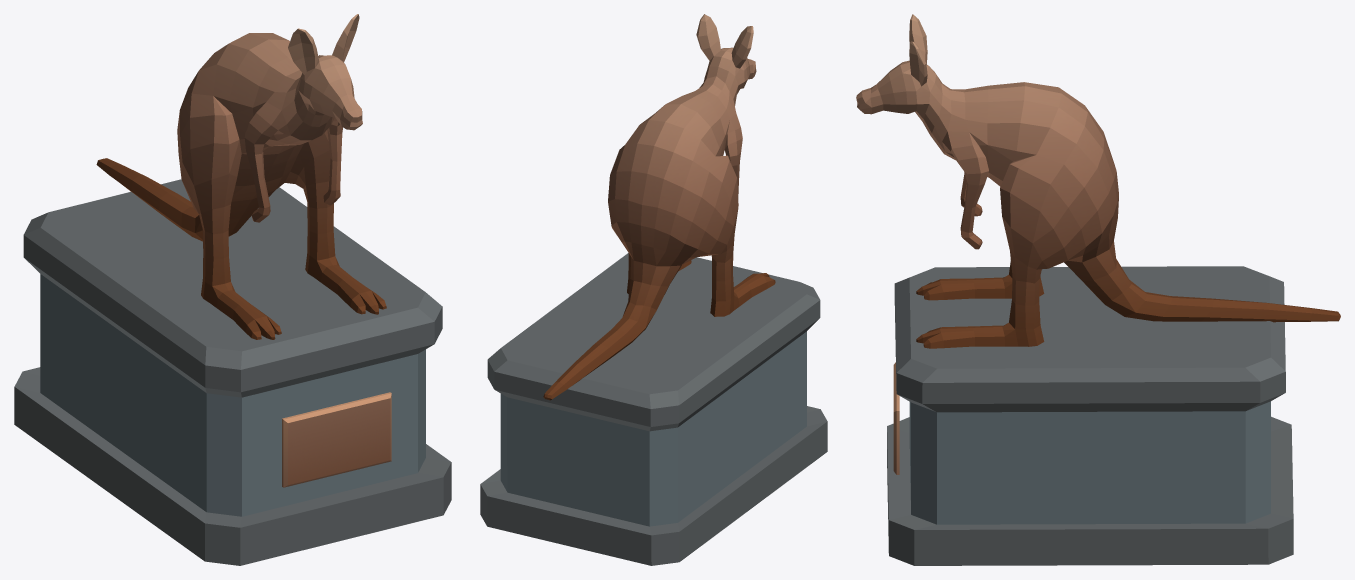
The model's file is Environment_AnimalStatue_Kangaroo.fbx.
3 views of the same model, side by side, from view 1: azimuth 30°, elevation 25°; view 2: azimuth 150°, elevation 25°; view 3: azimuth 270°, elevation 25° (orthographic). The views are drawn at different scales.
Parts seen in each view (by area): view 1: Environment_AnimalStatueStand_Kangaroo, Environment_AnimalStatueAnimal_Kangaroo, Environment_AnimalStatueStand_Plaque.005; view 2: Environment_AnimalStatueStand_Kangaroo, Environment_AnimalStatueAnimal_Kangaroo; view 3: Environment_AnimalStatueStand_Kangaroo, Environment_AnimalStatueAnimal_Kangaroo, Environment_AnimalStatueStand_Plaque.005.
Boxes of the visible parts, <box> form: Environment_AnimalStatueStand_Kangaroo: <box>14,179,451,565</box>; Environment_AnimalStatueAnimal_Kangaroo: <box>96,14,386,339</box>; Environment_AnimalStatueStand_Plaque.005: <box>282,392,391,487</box>; Environment_AnimalStatueStand_Kangaroo: <box>480,253,827,565</box>; Environment_AnimalStatueAnimal_Kangaroo: <box>543,14,775,400</box>; Environment_AnimalStatueStand_Kangaroo: <box>887,266,1293,565</box>; Environment_AnimalStatueAnimal_Kangaroo: <box>856,14,1340,348</box>; Environment_AnimalStatueStand_Plaque.005: <box>893,362,899,474</box>.
Bounding box in the file's own units: 227 × 442 × 404.
